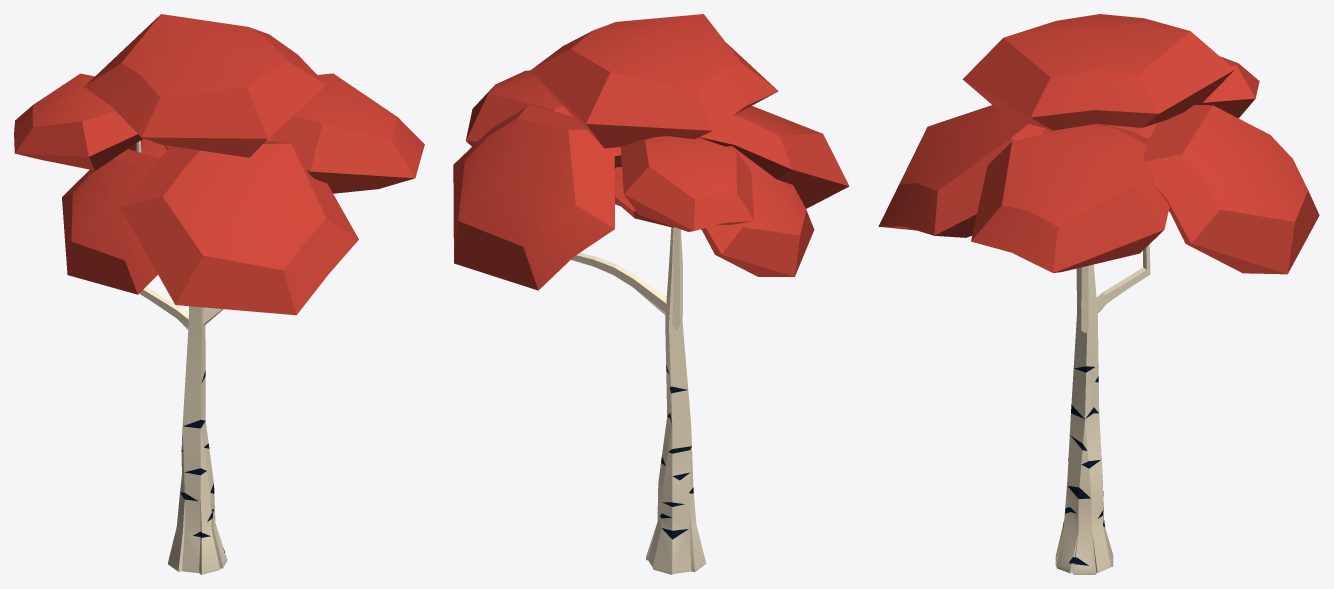
The model's file is SM_Tree_A.fbx.
3 renders of one model, left to right at view 1: azimuth 30°, elevation 25°; view 2: azimuth 150°, elevation 25°; view 3: azimuth 270°, elevation 25°, orthographic. The views are drawn at different scales.
Visible parts, largest first — view 1: Cube.022; view 2: Cube.022; view 3: Cube.022.
Boxes of the visible parts, bbox=[...] form: Cube.022: bbox=[14, 14, 424, 574]; Cube.022: bbox=[453, 14, 849, 574]; Cube.022: bbox=[878, 14, 1319, 574].
Size of the model in its own units: 447 by 638 by 471.
